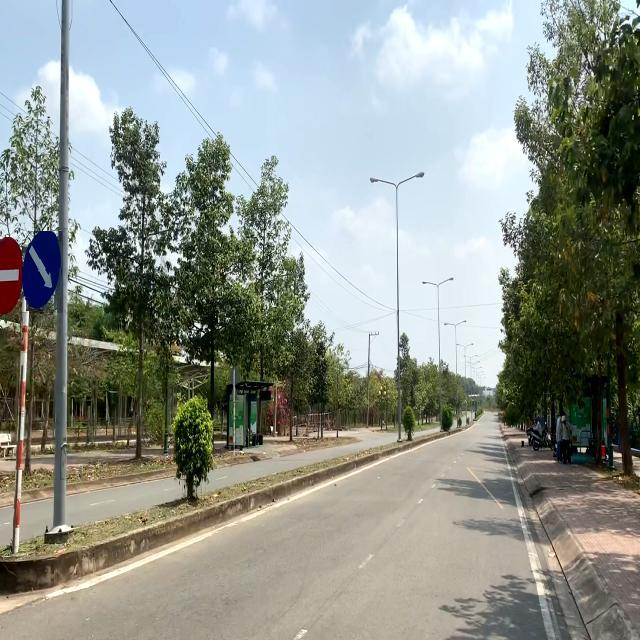R-302a: (22, 232, 63, 314)
